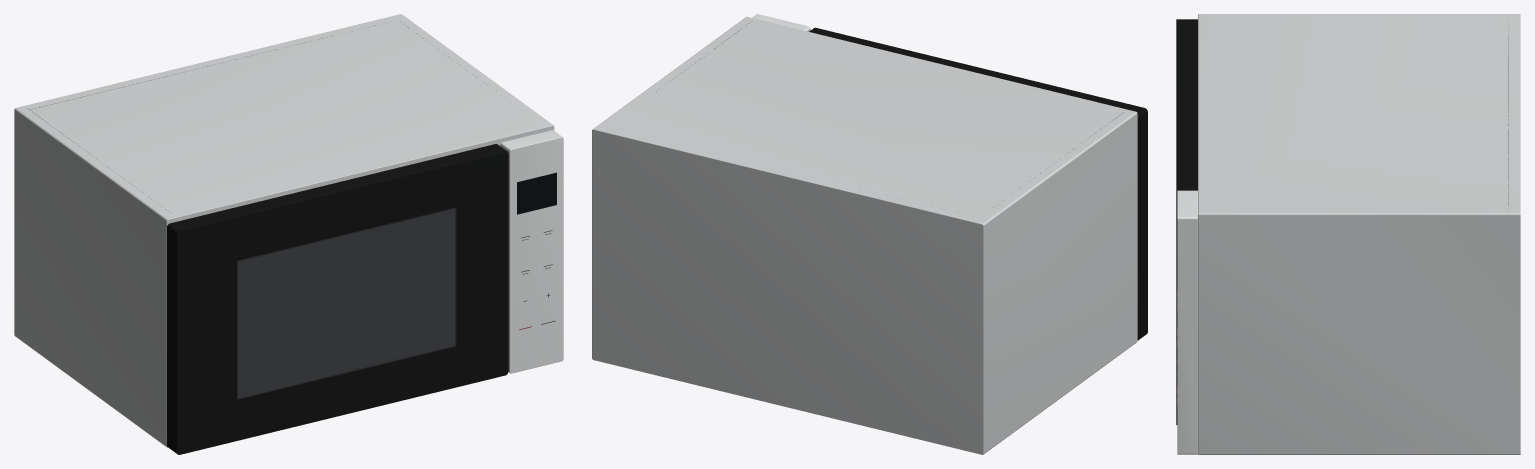
3 views of the same model, side by side, from view 1: azimuth 30°, elevation 25°; view 2: azimuth 150°, elevation 25°; view 3: azimuth 270°, elevation 25° (orthographic). The views are drawn at different scales.
Visible parts, largest first — view 1: BodyShell, DoorBody, WindowMesh, ControlPanel, WindowRim, ControlDisplay; view 2: BodyShell, DoorBody; view 3: BodyShell, ControlPanel, DoorBody.
Part boxes in pixels (left/top/right/bottom): BodyShell: left=14, top=14, right=554, bottom=447; DoorBody: left=167, top=144, right=508, bottom=454; WindowMesh: left=238, top=209, right=454, bottom=398; ControlPanel: left=500, top=130, right=563, bottom=373; WindowRim: left=237, top=207, right=456, bottom=399; ControlDisplay: left=517, top=172, right=556, bottom=214; BodyShell: left=592, top=17, right=1137, bottom=454; DoorBody: left=809, top=27, right=1147, bottom=340; BodyShell: left=1198, top=14, right=1520, bottom=454; ControlPanel: left=1177, top=190, right=1197, bottom=454; DoorBody: left=1176, top=19, right=1197, bottom=424.
Size of the model in its own units: 0.476 by 0.272 by 0.346.
11 materials, 1 textured.
